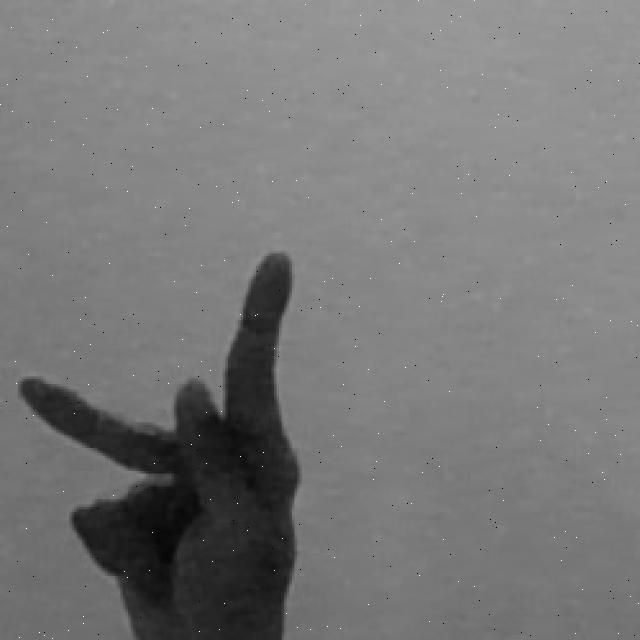K: (16, 250, 317, 640)
